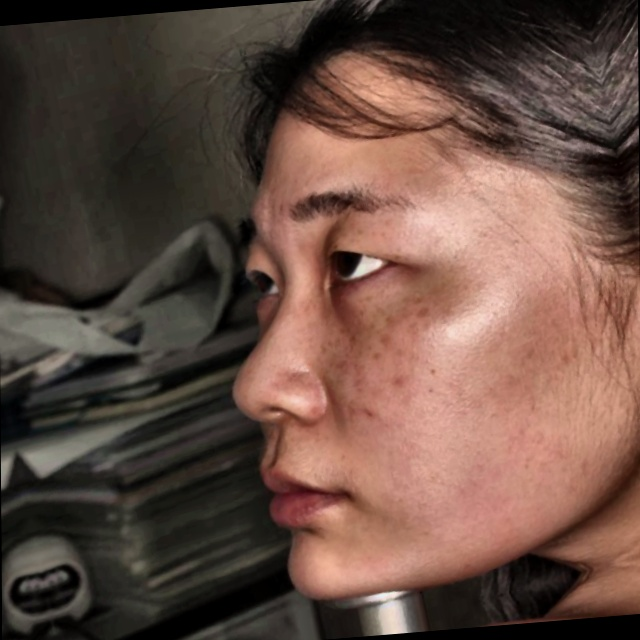comedone: (357, 396, 385, 426)
